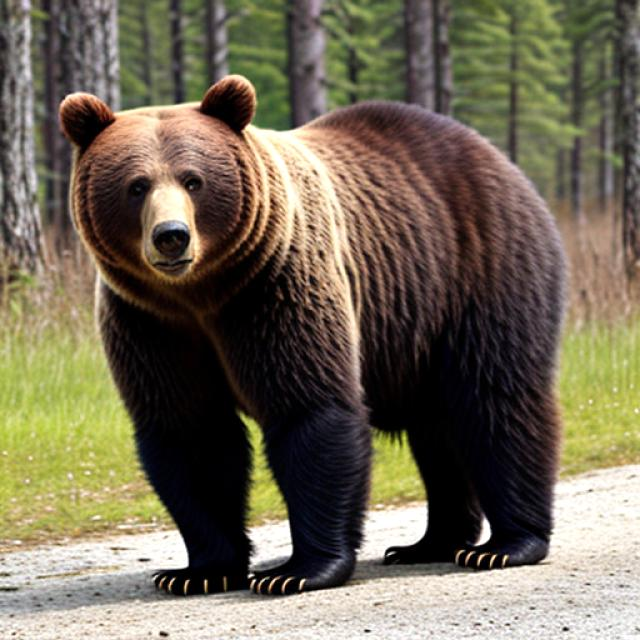bear: (50, 66, 297, 309)
